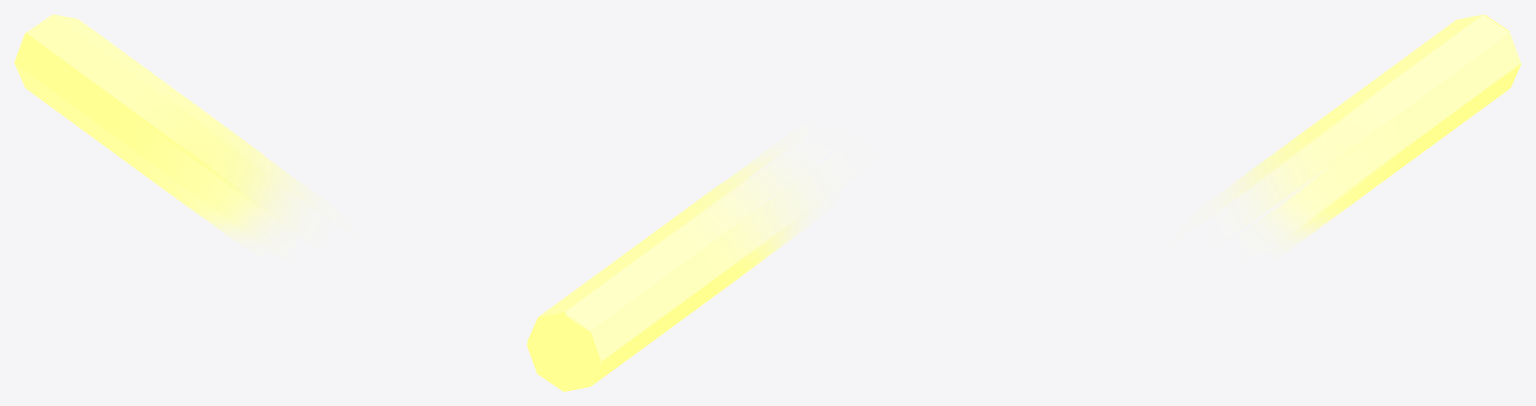
The model's file is light.glb.
3 renders of one model, left to right at view 1: azimuth 30°, elevation 25°; view 2: azimuth 150°, elevation 25°; view 3: azimuth 330°, elevation 25°, orthographic.
Visible parts, largest first — view 1: Shader.001; view 2: Shader.001; view 3: Shader.001.
Boxes of the visible parts, left/top/right/bottom form: Shader.001: left=14, top=14, right=451, bottom=385; Shader.001: left=527, top=94, right=969, bottom=391; Shader.001: left=1077, top=14, right=1521, bottom=390.
Bounding box in the file's own units: 4.64 × 4.64 × 43.36.
1 material, 1 textured.
